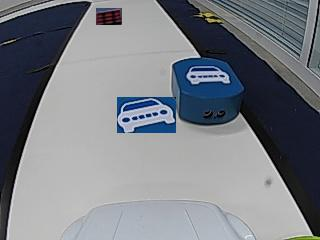safety: (187, 66, 231, 85)
